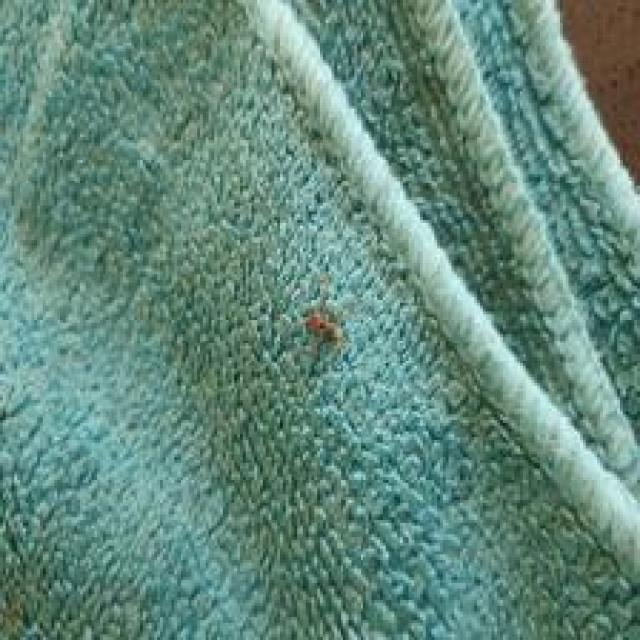Culex: (297, 273, 346, 358)
